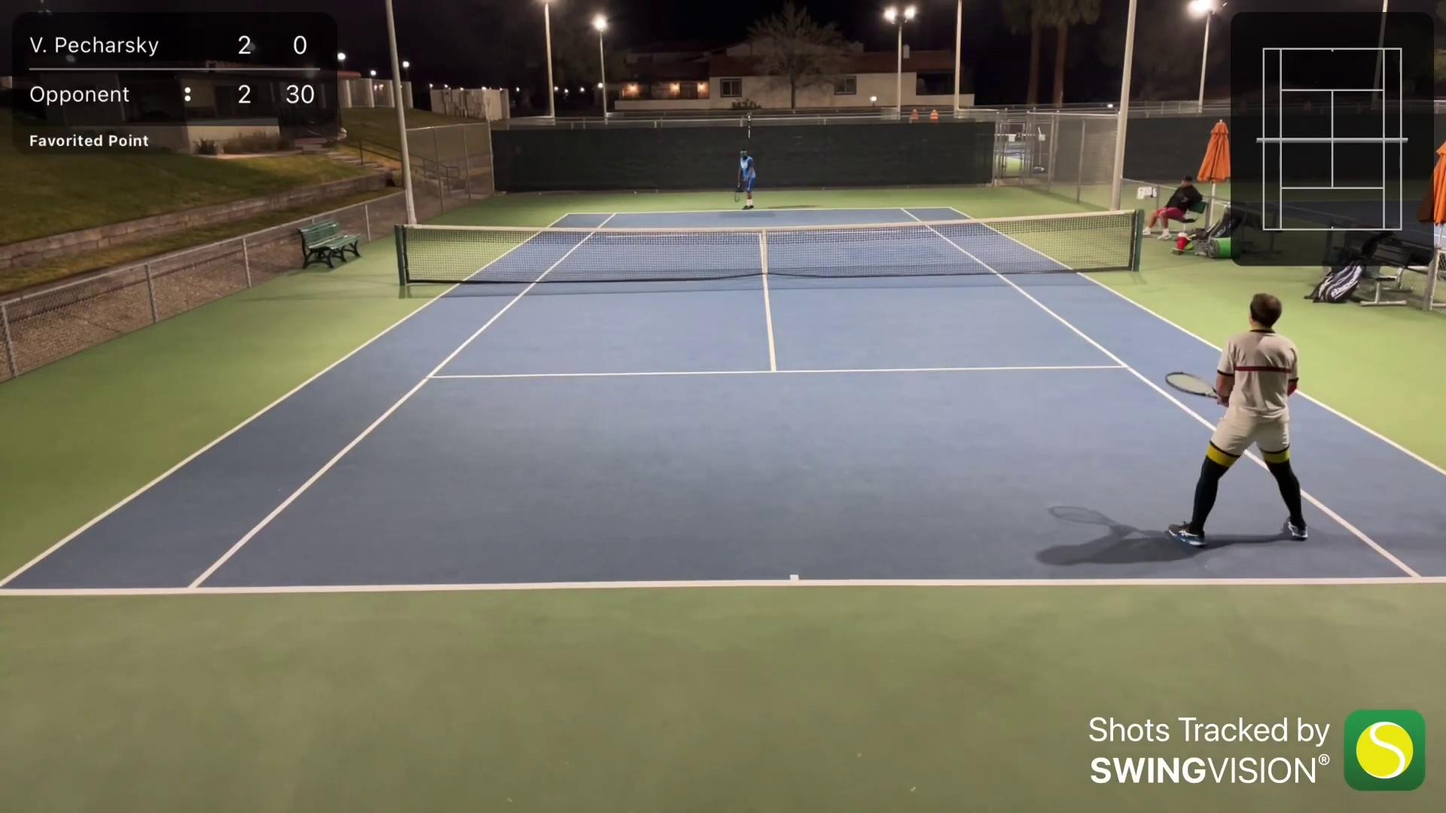ball: (535, 190, 548, 199), (630, 189, 642, 196), (653, 188, 660, 193)
